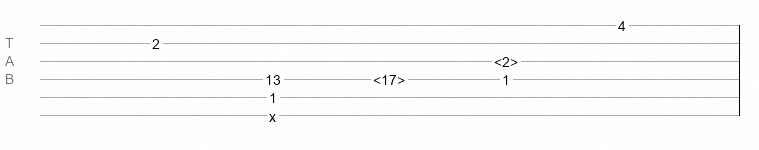1: (269, 90, 277, 100), (502, 72, 510, 82)
13: (265, 72, 281, 82)
2: (152, 36, 160, 46)
4: (618, 18, 626, 28)
harmonic: (373, 72, 405, 82), (494, 54, 518, 64)
x: (269, 109, 276, 117)
